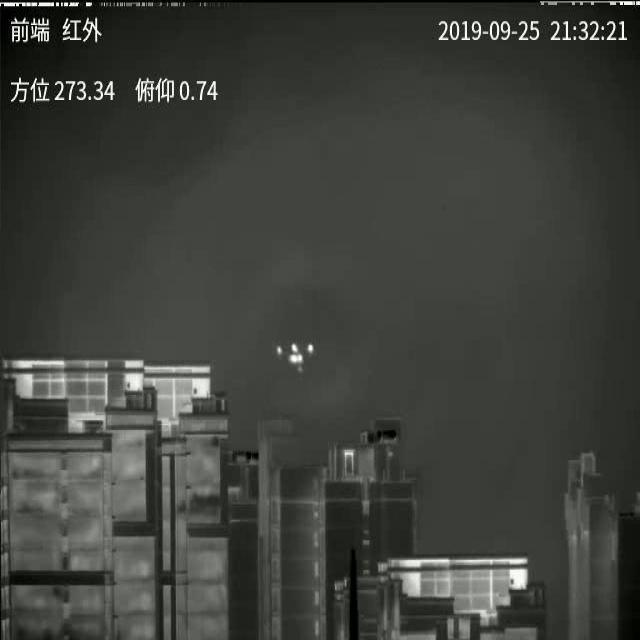drone: (275, 339, 318, 375)
